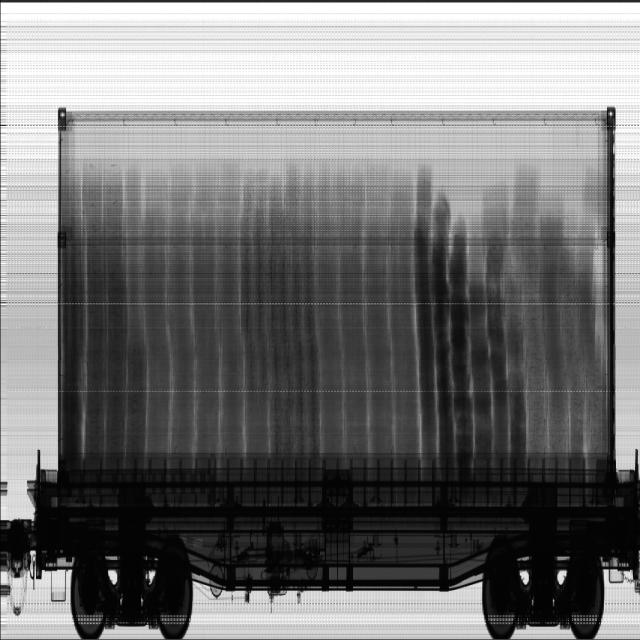auto parts: (24, 380, 130, 518), (417, 383, 523, 511)
spare parts: (176, 301, 308, 507)
